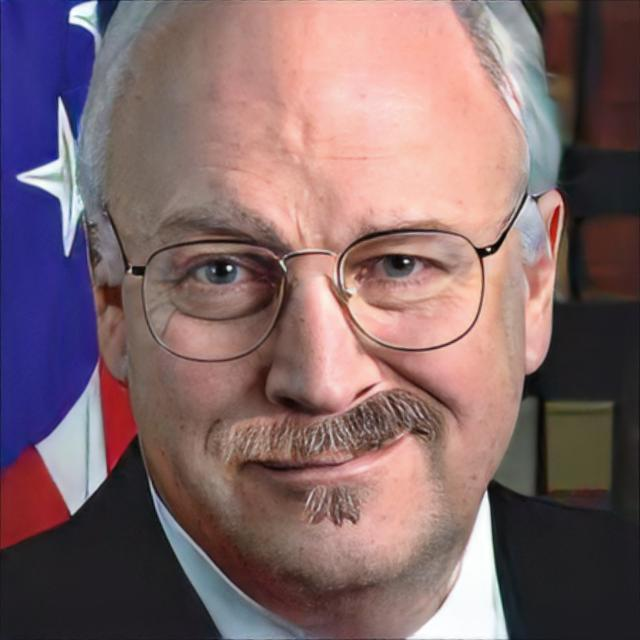content: (122, 0, 526, 593)
